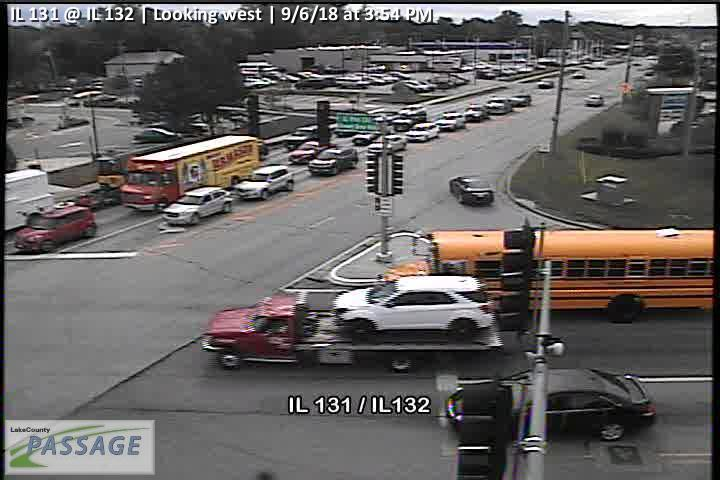Bus: (383, 226, 720, 323)
SUV: (14, 199, 97, 255), (235, 164, 295, 200), (307, 147, 358, 175), (436, 110, 467, 131)
Sedan: (445, 365, 654, 443), (332, 275, 495, 338), (164, 187, 233, 224), (448, 173, 494, 205), (288, 140, 337, 165), (282, 123, 325, 149), (367, 133, 407, 153), (406, 121, 440, 142), (483, 94, 511, 116), (464, 100, 491, 122), (509, 93, 533, 107), (583, 93, 604, 107)
Truck: (199, 270, 501, 372), (119, 135, 260, 216)
